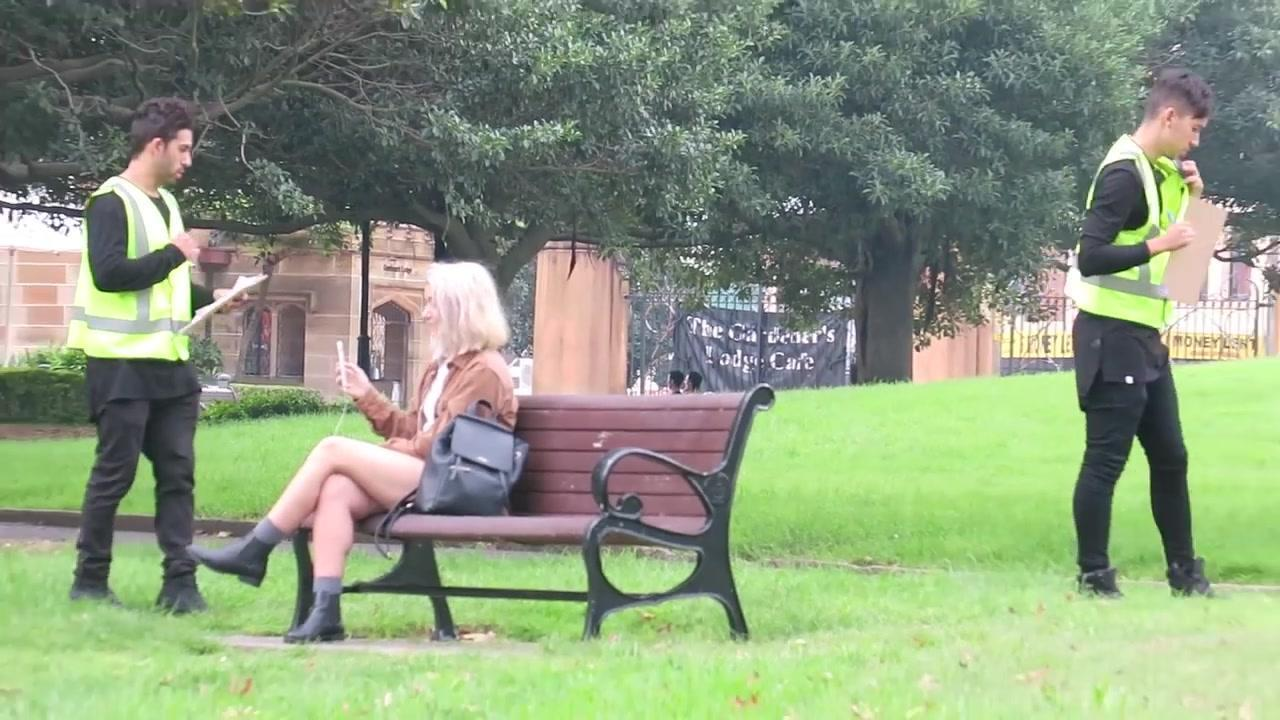vest: (1063, 130, 1191, 336), (69, 179, 192, 363)
